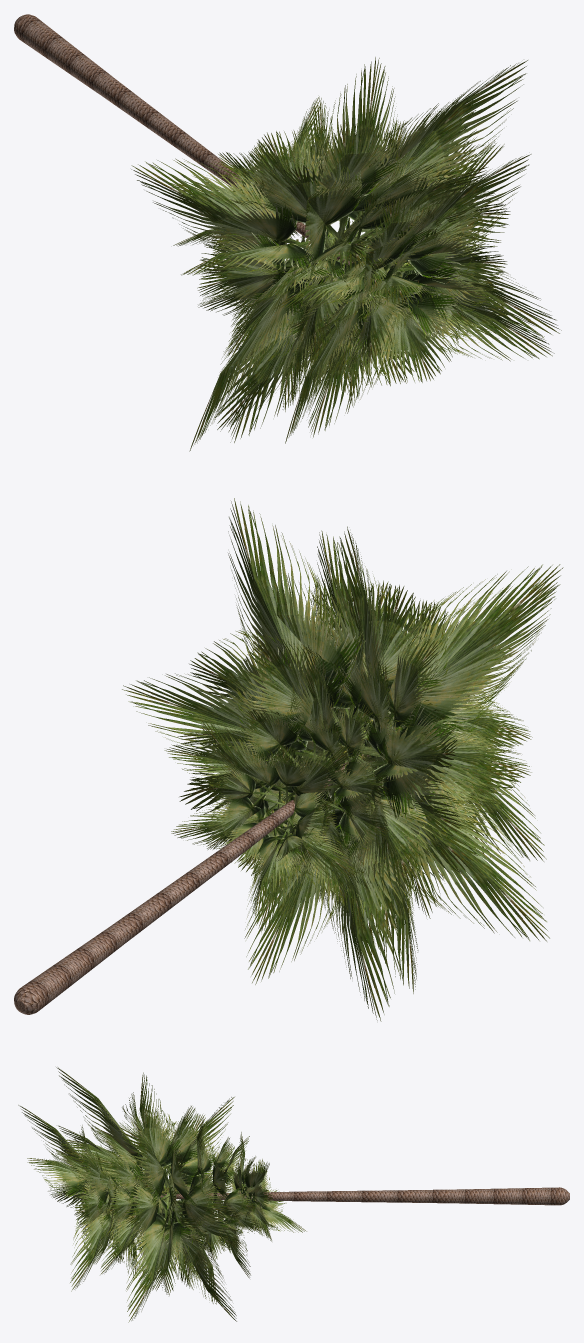
File: PalmTree.glb
3 views of the same model, one above another, from view 1: azimuth 30°, elevation 25°; view 2: azimuth 150°, elevation 25°; view 3: azimuth 270°, elevation 25° (orthographic). The views are drawn at different scales.
Parts seen in each view (by area): view 1: Palm, Leaf3.004, Leaf.029, Leaf3.029, Leaf3.003, Leaf3.013, Leaf4.012, Leaf3.011, Leaf3, Leaf4.027, Leaf2.012, Leaf.028 (+41 smaller); view 2: Leaf3.012, Palm, Leaf3.013, Leaf3.011, Leaf3.010, Leaf3.002, Leaf.002, Leaf4.010, Leaf3.004, Leaf3.001, Leaf2.010, Leaf2.012 (+43 smaller); view 3: Palm, Leaf3.014, Leaf4.001, Leaf3.012, Leaf.013, Leaf3.013, Leaf4.002, Leaf3.029, Leaf4.026, Leaf.003, Leaf3.028, Leaf3.001 (+32 smaller).
Boxes of the visible parts, x1,y1,x2,y2 form: Palm: [14, 14, 352, 265]; Leaf3.004: [131, 158, 331, 261]; Leaf.029: [350, 289, 463, 383]; Leaf3.029: [400, 264, 554, 361]; Leaf3.003: [294, 57, 398, 245]; Leaf3.013: [347, 60, 527, 229]; Leaf4.012: [344, 98, 477, 242]; Leaf3.011: [189, 239, 335, 451]; Leaf3: [214, 293, 312, 431]; Leaf4.027: [384, 179, 487, 283]; Leaf2.012: [313, 122, 406, 239]; Leaf.028: [397, 227, 507, 327]; Leaf3.012: [363, 564, 563, 740]; Palm: [14, 730, 392, 1014]; Leaf3.013: [228, 498, 353, 684]; Leaf3.011: [356, 755, 549, 941]; Leaf3.010: [324, 760, 419, 1021]; Leaf3.002: [122, 673, 342, 768]; Leaf.002: [236, 639, 349, 753]; Leaf4.010: [338, 725, 531, 822]; Leaf3.004: [361, 712, 455, 819]; Leaf3.001: [244, 797, 341, 984]; Leaf2.010: [342, 753, 448, 891]; Leaf2.012: [330, 584, 448, 727]; Palm: [115, 1187, 569, 1205]; Leaf3.014: [126, 1193, 169, 1322]; Leaf4.001: [164, 1175, 228, 1241]; Leaf3.012: [56, 1067, 164, 1193]; Leaf.013: [124, 1161, 176, 1249]; Leaf3.013: [119, 1122, 169, 1206]; Leaf4.002: [141, 1106, 184, 1186]; Leaf3.029: [70, 1197, 104, 1291]; Leaf4.026: [27, 1158, 89, 1197]; Leaf.003: [165, 1106, 205, 1179]; Leaf3.028: [64, 1143, 116, 1211]; Leaf3.001: [191, 1234, 236, 1321].
Size of the model in its own units: 11.2 by 12.1 by 22.55.
2 materials, 2 textured.
